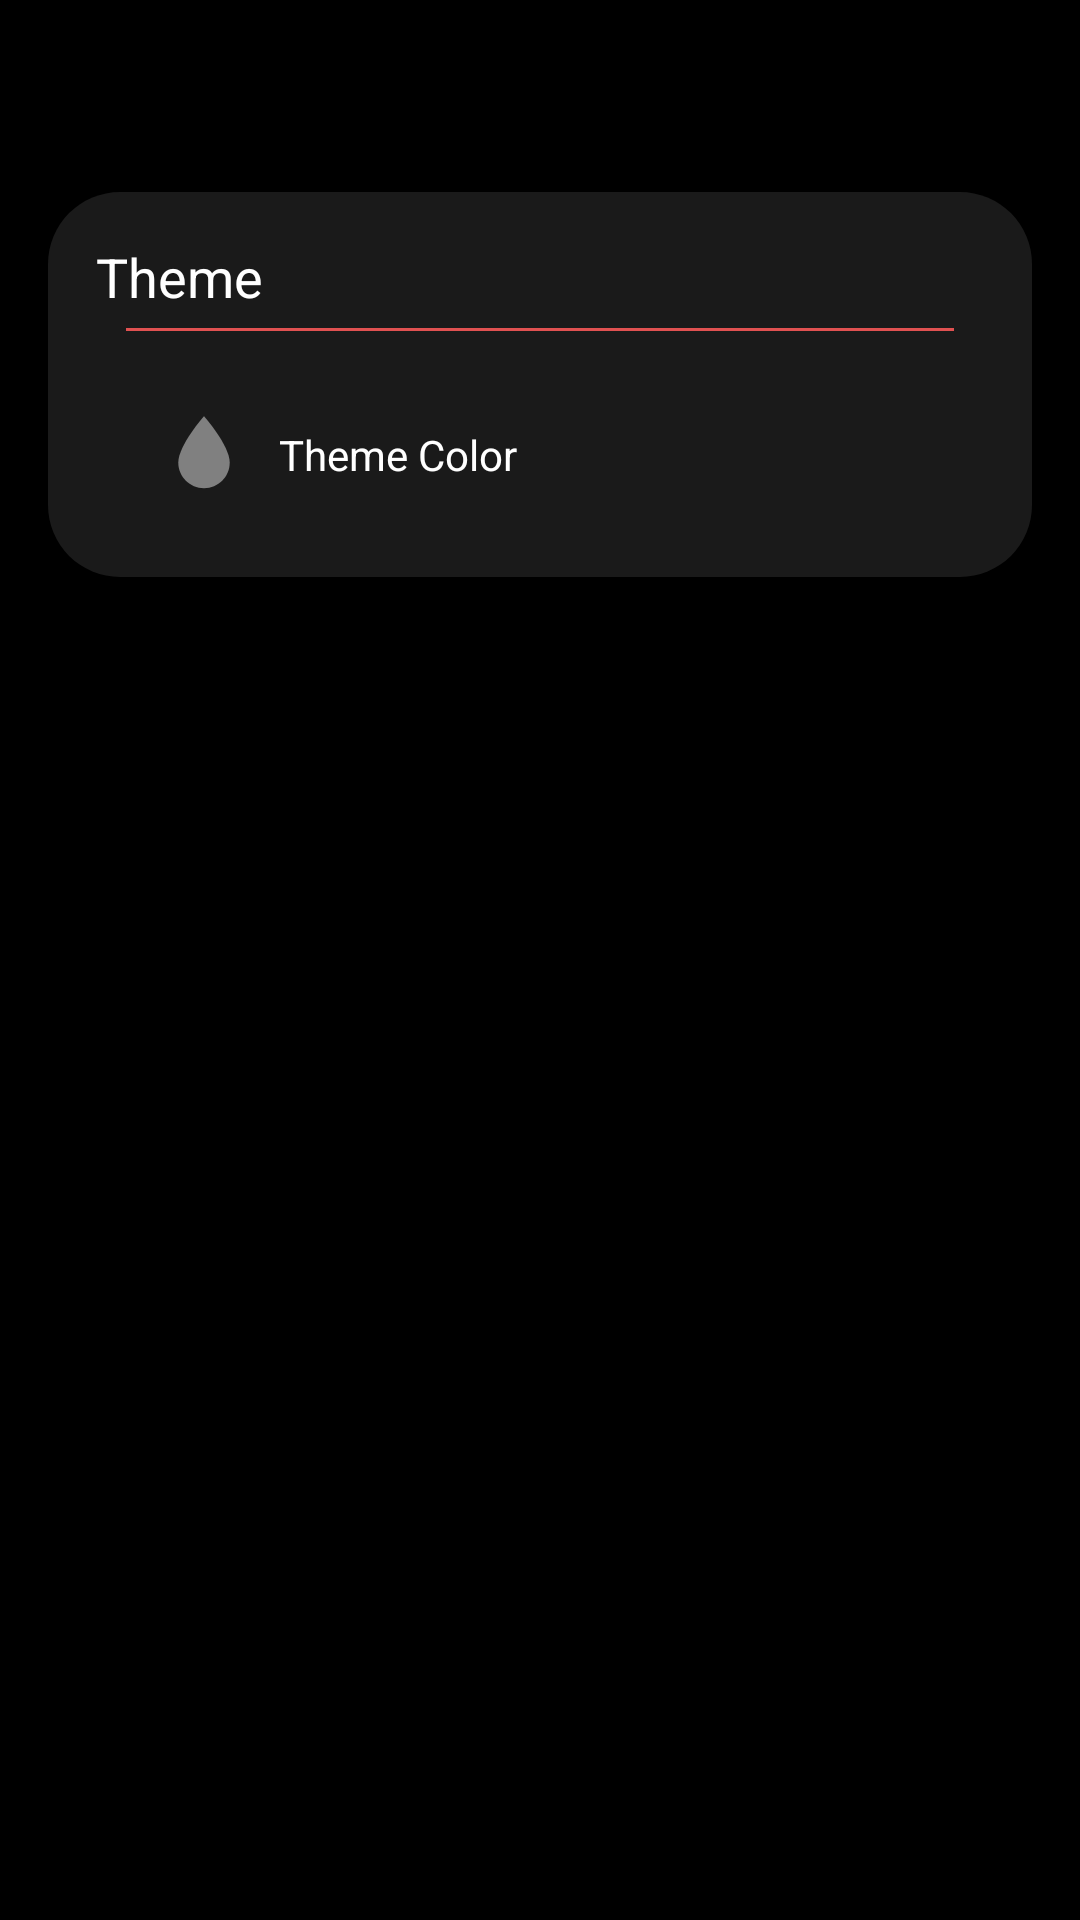

Where icons sit on this 1080 × 1920 app screen, as (x1, y1, x2, y2):
water drop: (178, 416, 230, 488)
